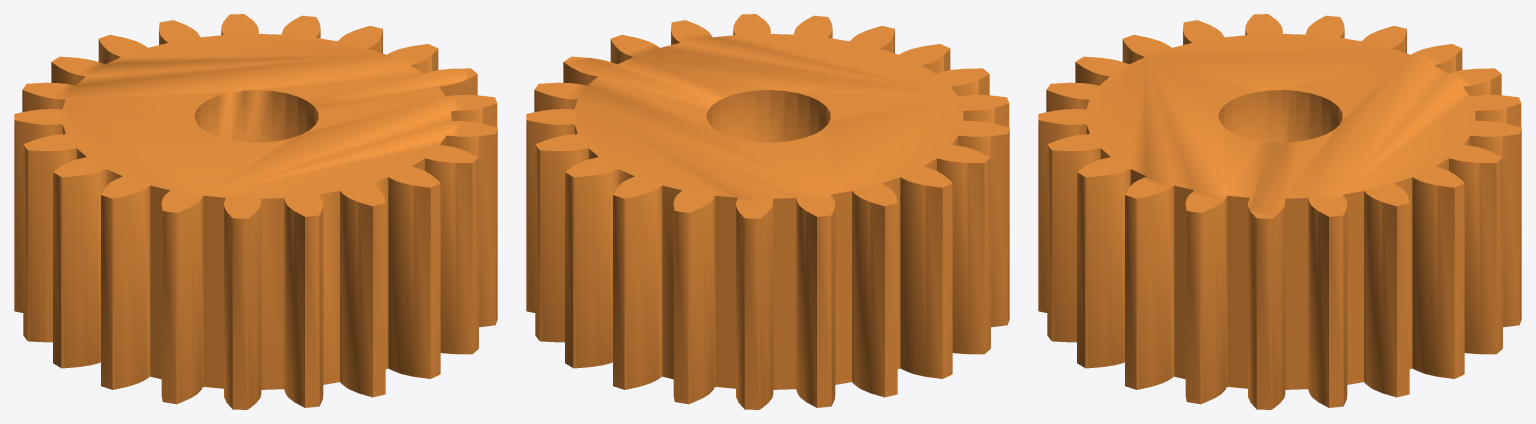
The model's file is 03_pinon_21t_v31.glb.
The picture shows the model from 3 angles, left to right: view 1: azimuth 30°, elevation 25°; view 2: azimuth 150°, elevation 25°; view 3: azimuth 270°, elevation 25°; orthographic projection.
Parts seen in each view (by area): view 1: 03_Pinon_21T_V31; view 2: 03_Pinon_21T_V31; view 3: 03_Pinon_21T_V31.
Boxes of the visible parts, left/top/right/bottom form: 03_Pinon_21T_V31: left=14, top=14, right=497, bottom=409; 03_Pinon_21T_V31: left=526, top=14, right=1009, bottom=409; 03_Pinon_21T_V31: left=1038, top=14, right=1521, bottom=409.
Size of the model in its own units: 0.023 by 0.01 by 0.0229.
